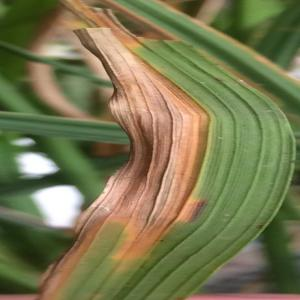Bacterial_Blight: (101, 46, 279, 269)
